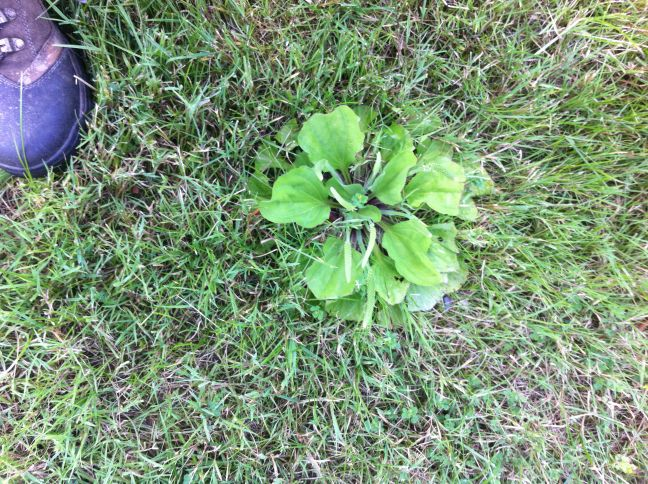weed1: (255, 99, 466, 326)
